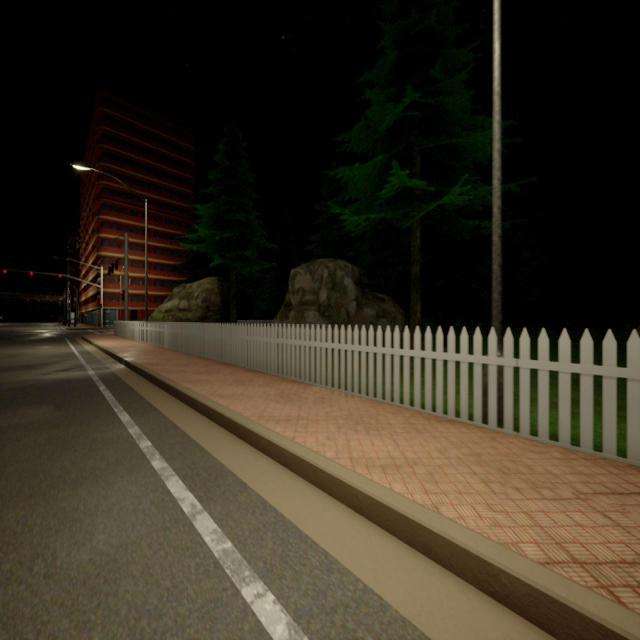traffic_light: (120, 290, 125, 302), (113, 260, 118, 270), (111, 263, 114, 274), (99, 301, 102, 309), (3, 269, 7, 274), (108, 266, 110, 276), (58, 274, 62, 278), (30, 271, 33, 276), (27, 298, 29, 301), (50, 299, 52, 302), (38, 299, 39, 301)
